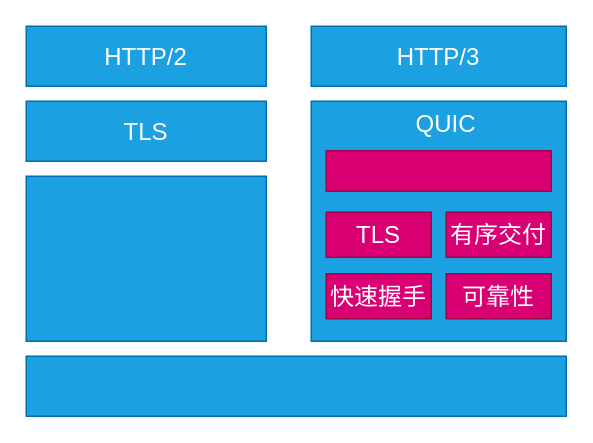
Image size: 593x443. Some labels were removed from this diagram. Here are the shapes that lost their labels. From the top down, the centre of each, then its label:
point (438, 170): 多路数据流
point (145, 258): TCP
point (295, 385): IP
